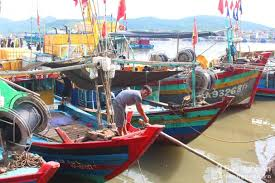tau_dansu: (1, 36, 159, 176), (56, 29, 230, 152), (134, 25, 268, 112)
